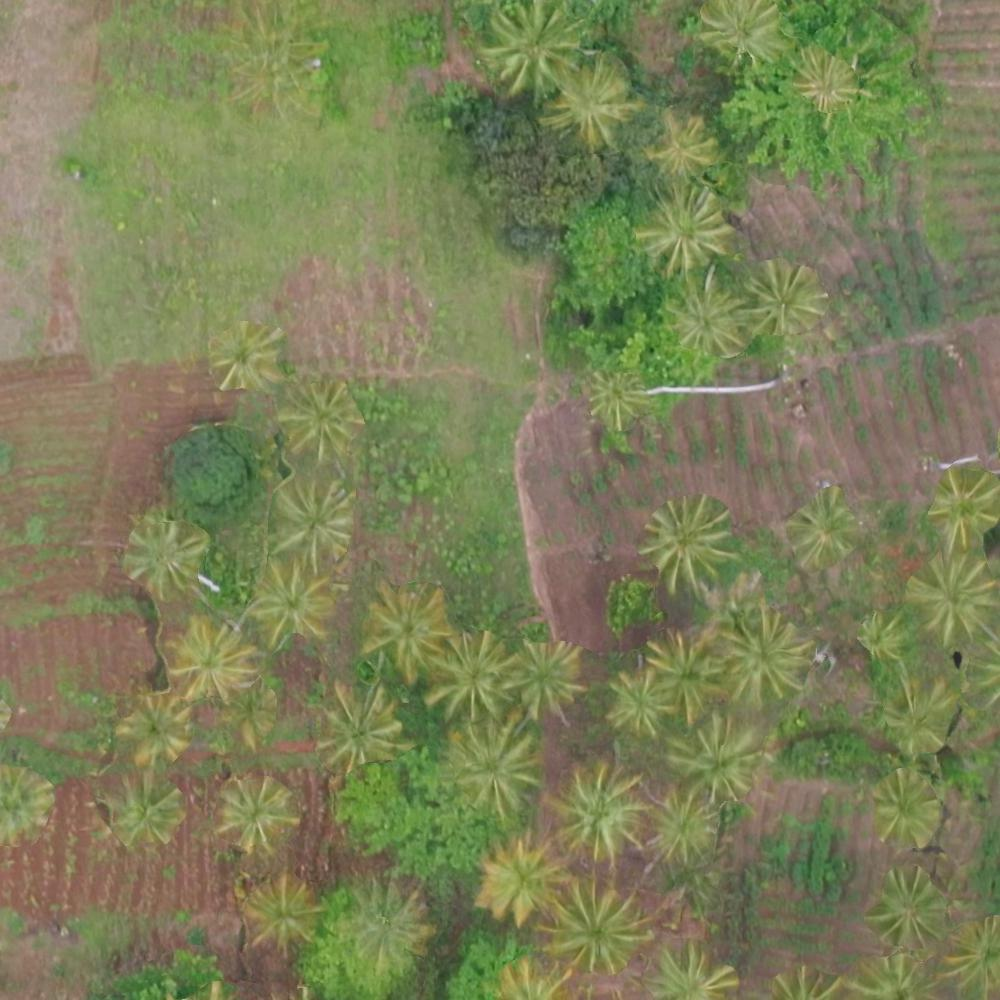not palm: (17, 306, 98, 384), (17, 554, 97, 627), (925, 176, 1000, 250), (328, 268, 402, 339), (1, 77, 80, 143), (12, 207, 81, 281), (432, 384, 501, 455), (422, 154, 492, 222), (1, 6, 74, 71), (497, 180, 566, 248), (198, 186, 265, 251), (283, 177, 348, 244), (418, 282, 487, 343), (512, 268, 581, 328), (37, 418, 102, 480), (97, 100, 166, 158), (884, 370, 948, 432), (890, 288, 955, 348), (446, 472, 508, 533)
